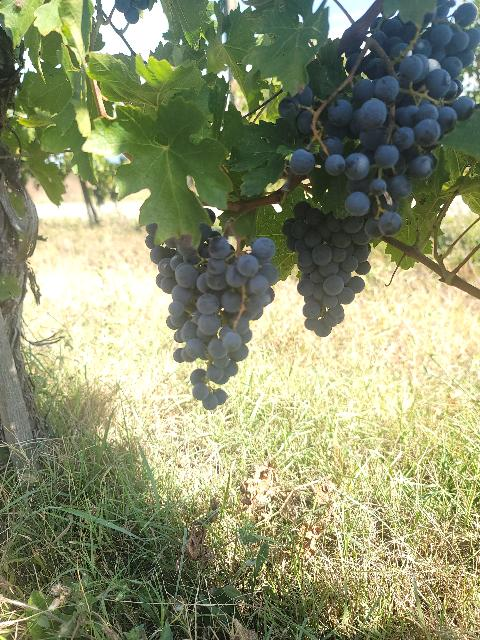grapes: (325, 2, 480, 244), (170, 235, 279, 409), (282, 201, 370, 338), (145, 224, 198, 332)
